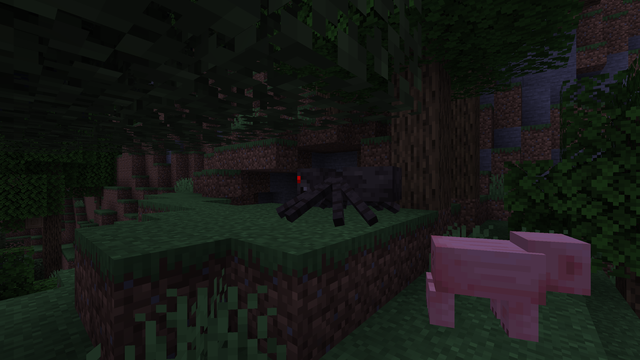araignees: (280, 158, 397, 228)
cochons: (427, 230, 529, 354)
